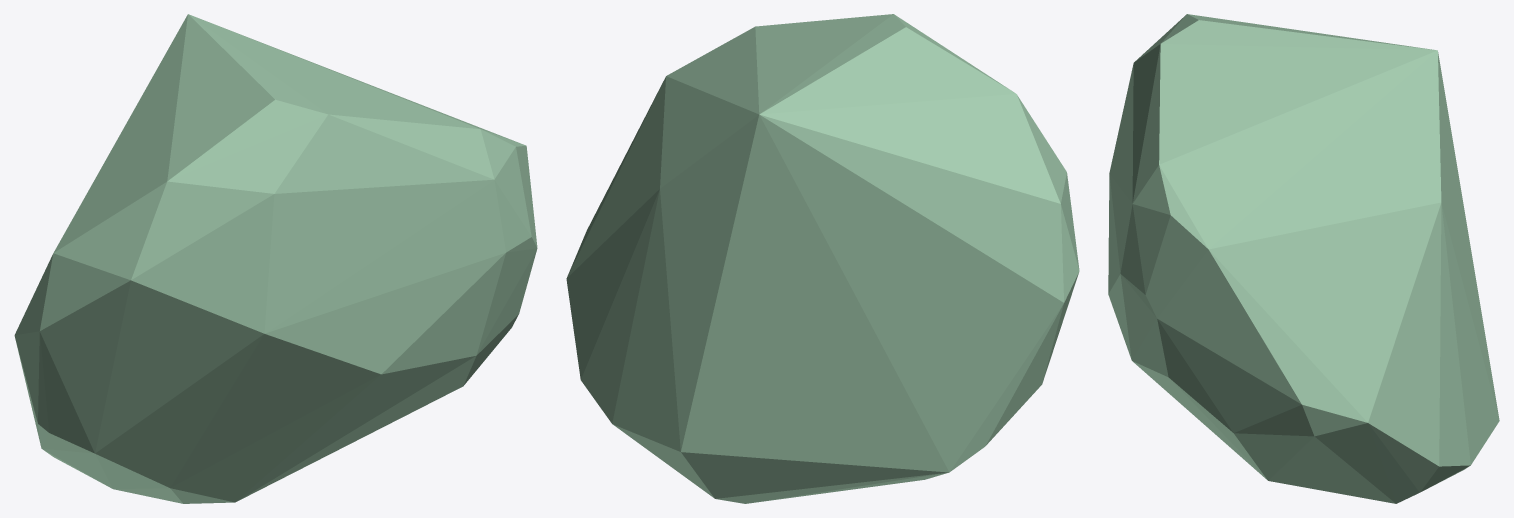
File: food_produce_mushroom_f01.glb
3 renders of one model, left to right at view 1: azimuth 30°, elevation 25°; view 2: azimuth 150°, elevation 25°; view 3: azimuth 270°, elevation 25°, orthographic. The views are drawn at different scales.
Visible parts, largest first — view 1: geometry_0; view 2: geometry_0; view 3: geometry_0.
Part boxes in pixels (x1,y1,x2,y2): geometry_0: (14, 14, 537, 503); geometry_0: (566, 14, 1079, 503); geometry_0: (1108, 14, 1499, 503).
Bounding box in the file's own units: 0.477 × 0.3996 × 0.3273.
